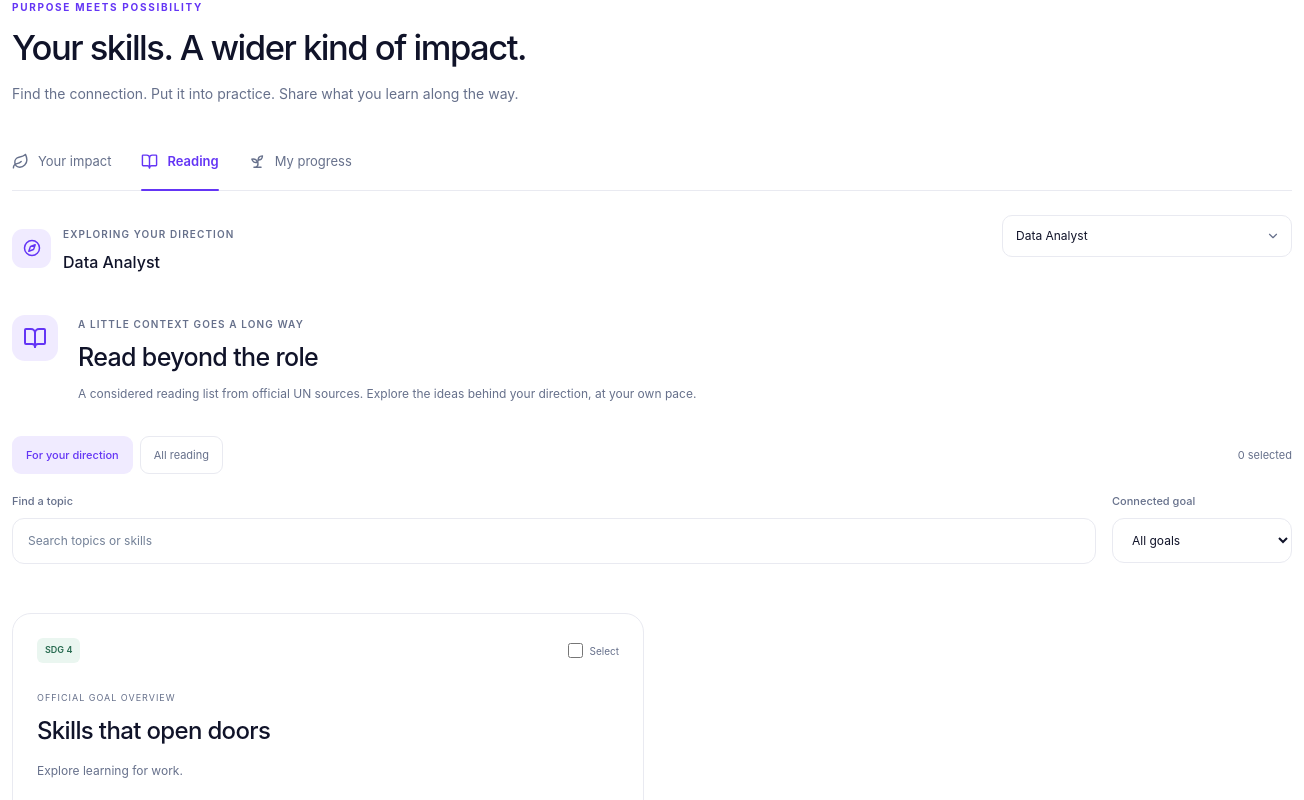
previews selected reading without claiming to send email or writing demo data
Click the checkbox named "Include Skills that open doors". click: (575, 651)
box: [568,643,582,658]
(page scrolled)
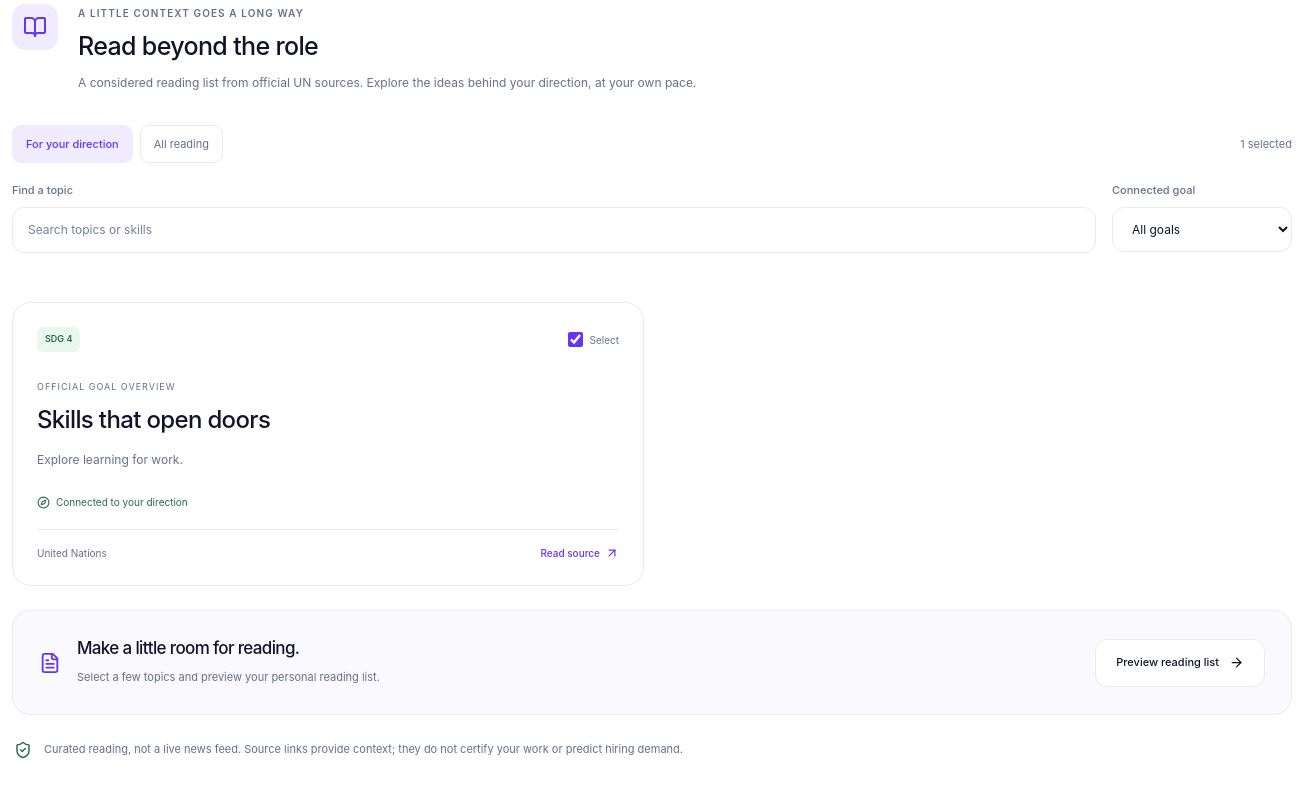
Click the button "Preview reading list". click: (1180, 663)
box: [1095,639,1265,687]
(page scrolled)
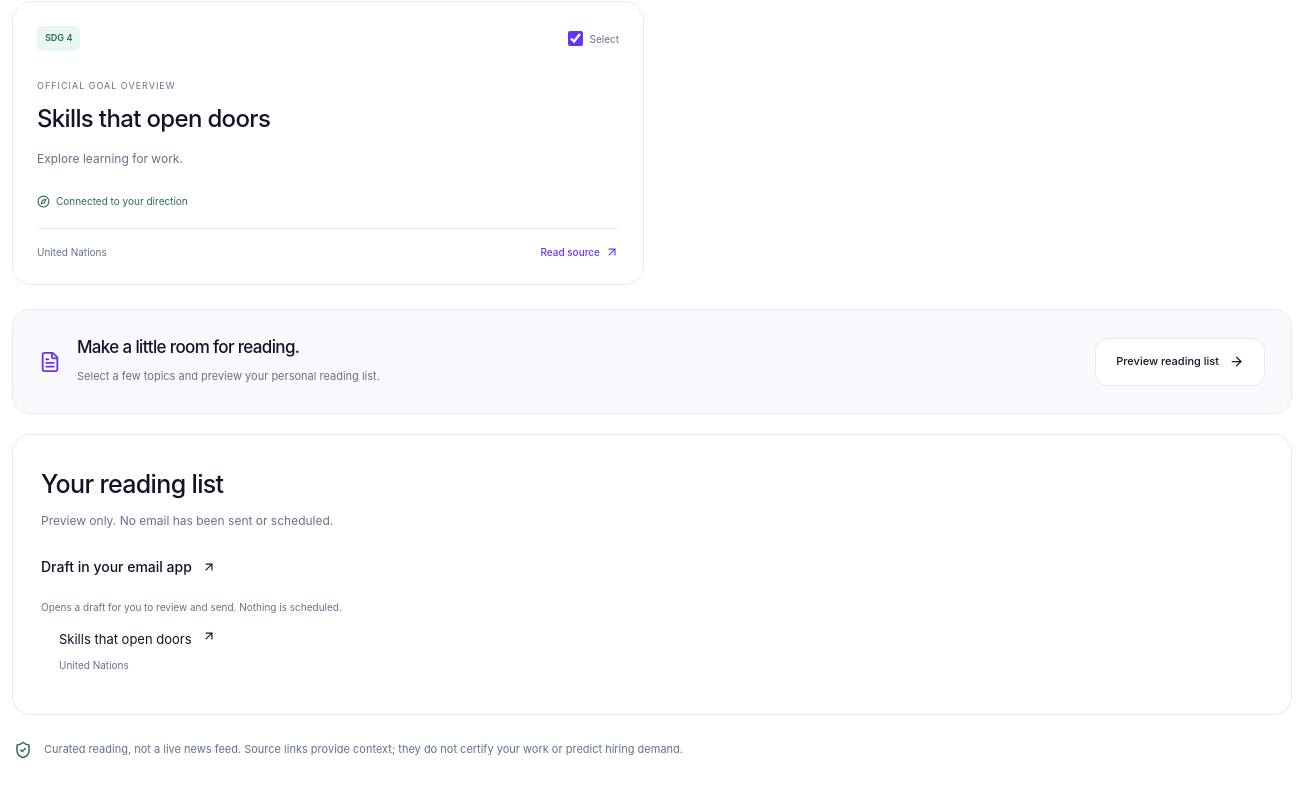
Expected: the text "Preview only. No email has been sent or scheduled." is shown, [41,510,333,533]
